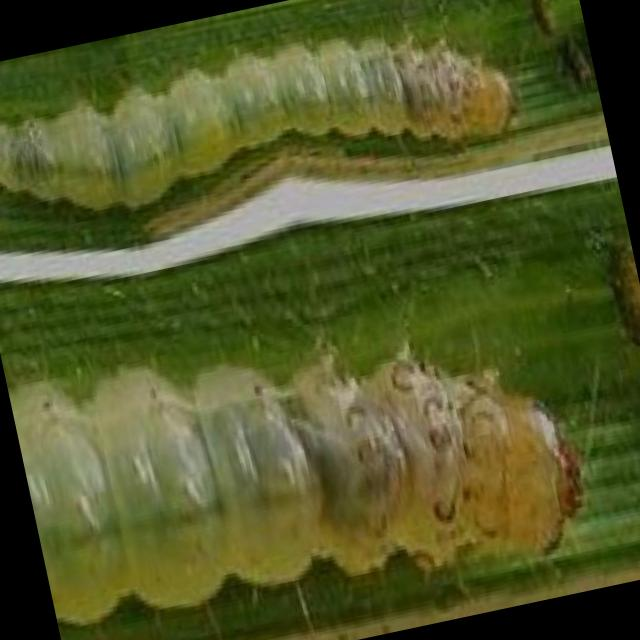leaf-folder: (5, 230, 612, 640), (0, 0, 543, 270)
